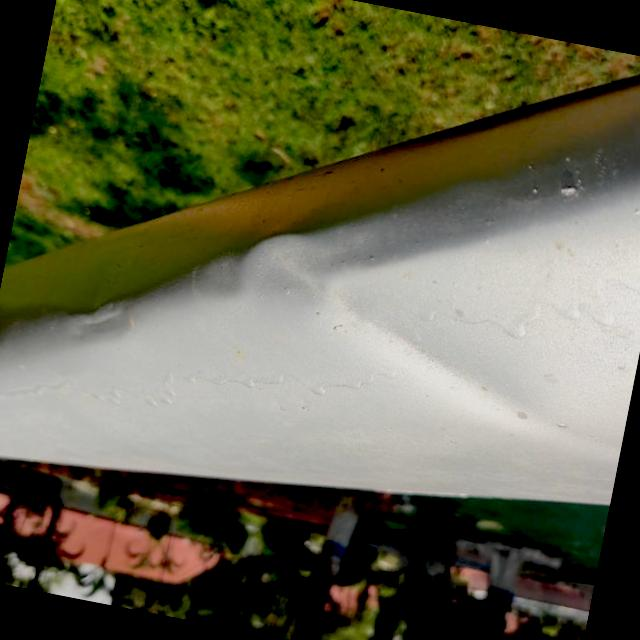dent: (203, 196, 552, 437), (56, 280, 150, 371)
